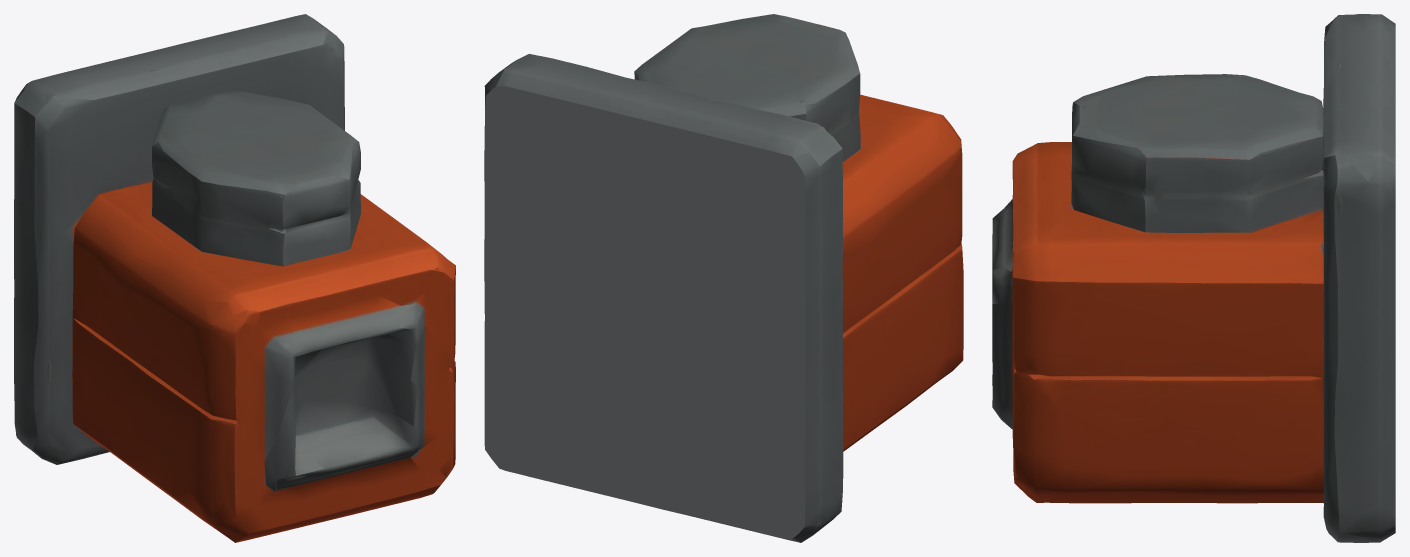
File: compact_refinery_mk1.glb
3 renders of one model, left to right at view 1: azimuth 30°, elevation 25°; view 2: azimuth 150°, elevation 25°; view 3: azimuth 270°, elevation 25°, orthographic. The views are drawn at different scales.
Parts seen in each view (by area): view 1: part; view 2: part; view 3: part.
Part boxes in pixels (bbox=[...]): part: bbox=[14, 14, 455, 542]; part: bbox=[484, 14, 963, 542]; part: bbox=[992, 14, 1395, 542].
Bounding box in the file's own units: 1.4 × 1.6 × 1.5.
Materials: 2 (1 with a texture image).
